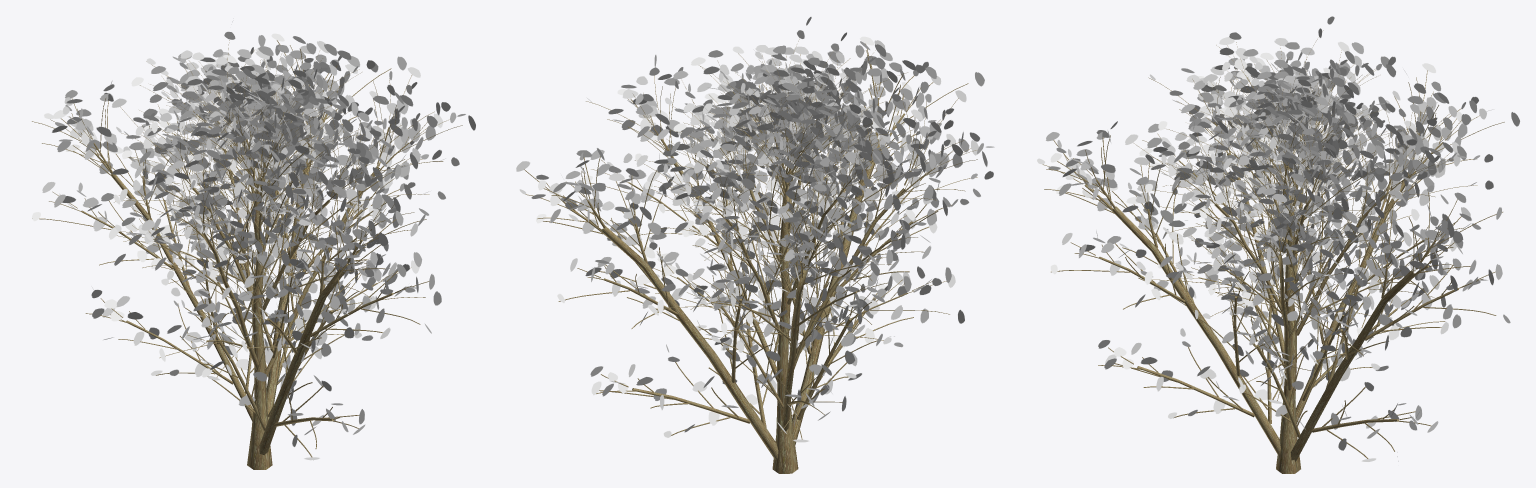
The model's file is veg6.glb.
3 renders of one model, left to right at view 1: azimuth 30°, elevation 25°; view 2: azimuth 150°, elevation 25°; view 3: azimuth 270°, elevation 25°, orthographic. The views are drawn at different scales.
Parts seen in each view (by area): view 1: LEVES, Tree; view 2: LEVES, Tree; view 3: LEVES, Tree.
Part boxes in pixels (x1=…): LEVES: x1=32, y1=21, x2=475, y2=460; Tree: x1=32, y1=40, x2=462, y2=469; LEVES: x1=516, y1=17, x2=994, y2=442; Tree: x1=524, y1=39, x2=977, y2=473; LEVES: x1=1037, y1=16, x2=1519, y2=461; Tree: x1=1042, y1=30, x2=1504, y2=473.
Size of the model in its own units: 601 by 628 by 666.
Materials: 2 (2 with a texture image).
